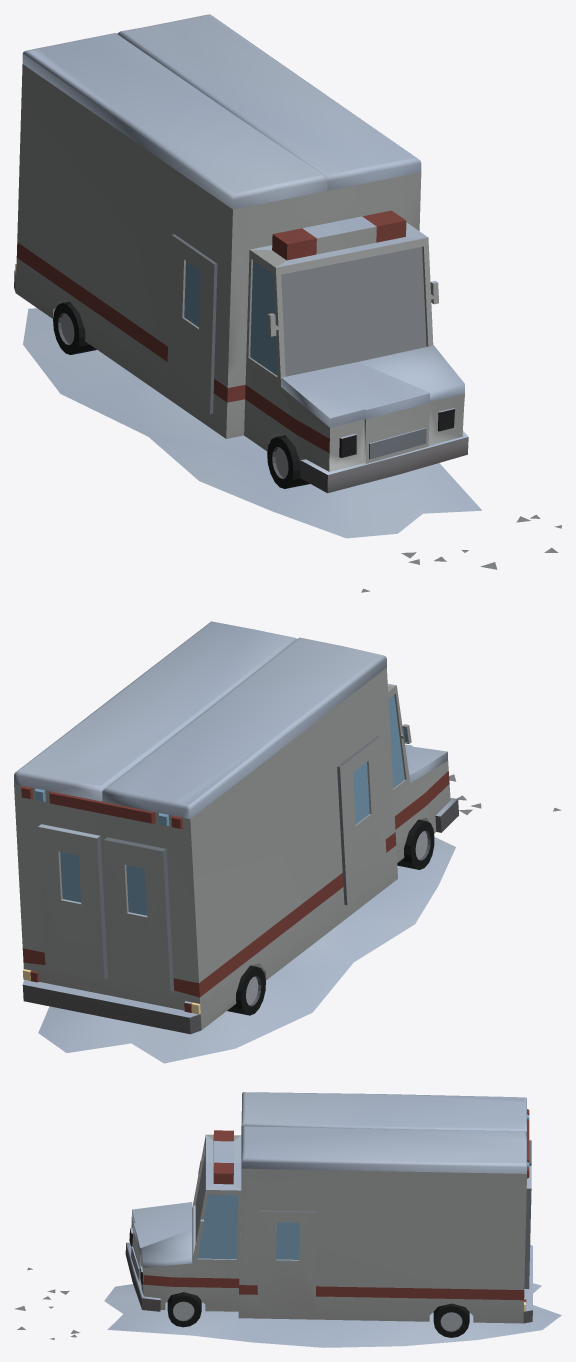
The model's file is ambulance_crashed.glb.
The picture shows the model from 3 angles, top to bottom: view 1: azimuth 30°, elevation 25°; view 2: azimuth 150°, elevation 25°; view 3: azimuth 270°, elevation 25°; orthographic projection. The views are drawn at different scales.
Visible parts, largest first — view 1: Body, Glass; view 2: Body, Glass; view 3: Body, Glass.
Part boxes in pixels (left/top/right/bottom): Body: left=14, top=14, right=561, bottom=592; Glass: left=184, top=260, right=277, bottom=375; Body: left=14, top=621, right=561, bottom=1063; Glass: left=35, top=695, right=408, bottom=915; Body: left=15, top=1092, right=561, bottom=1347; Glass: left=198, top=1114, right=529, bottom=1259.
Size of the model in its own units: 2.97 by 3.15 by 8.27.
